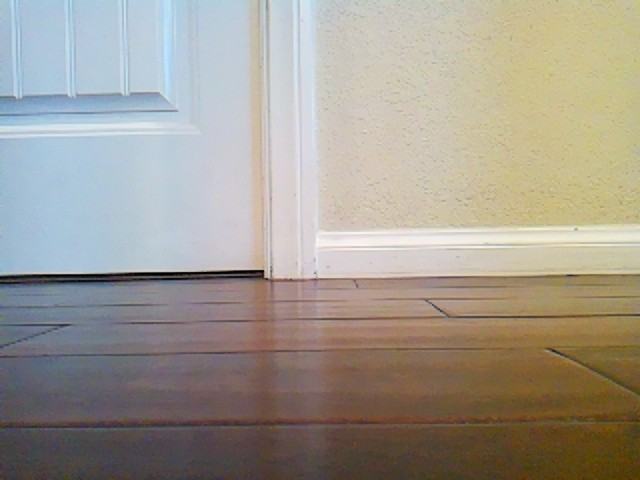Drivable Area: (1, 287, 640, 480)
